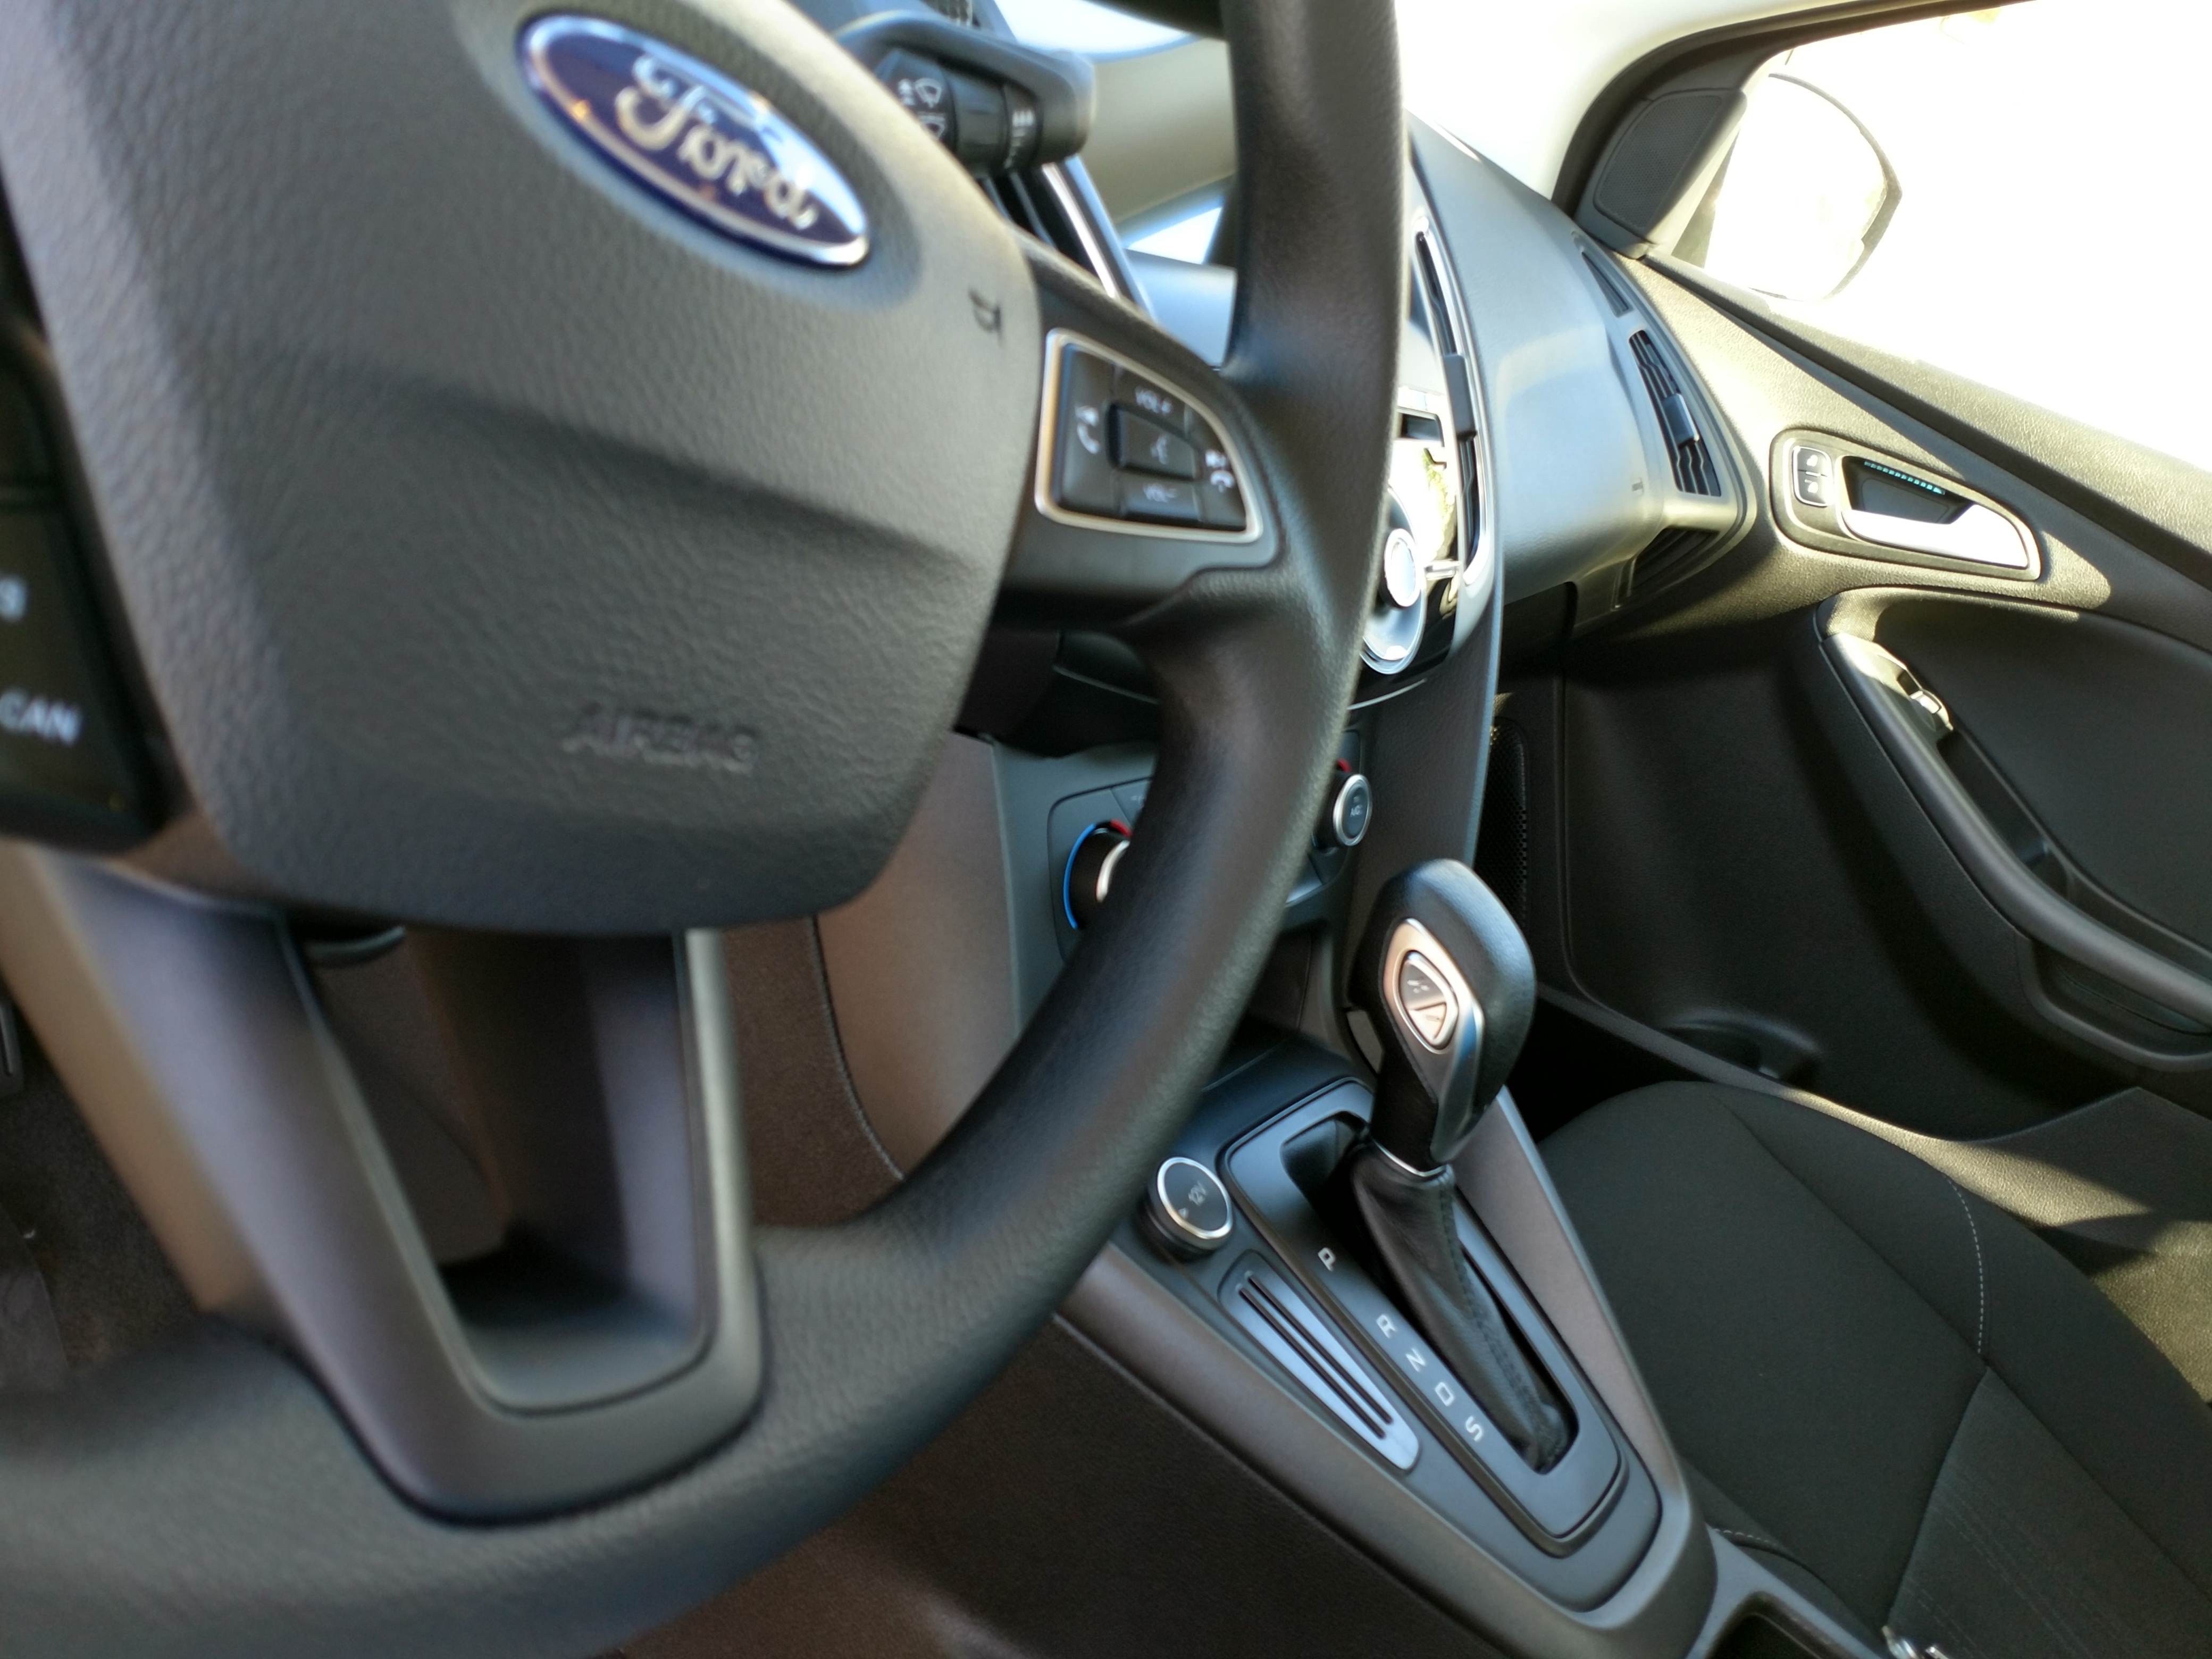Ford: (486, 12, 871, 282)
